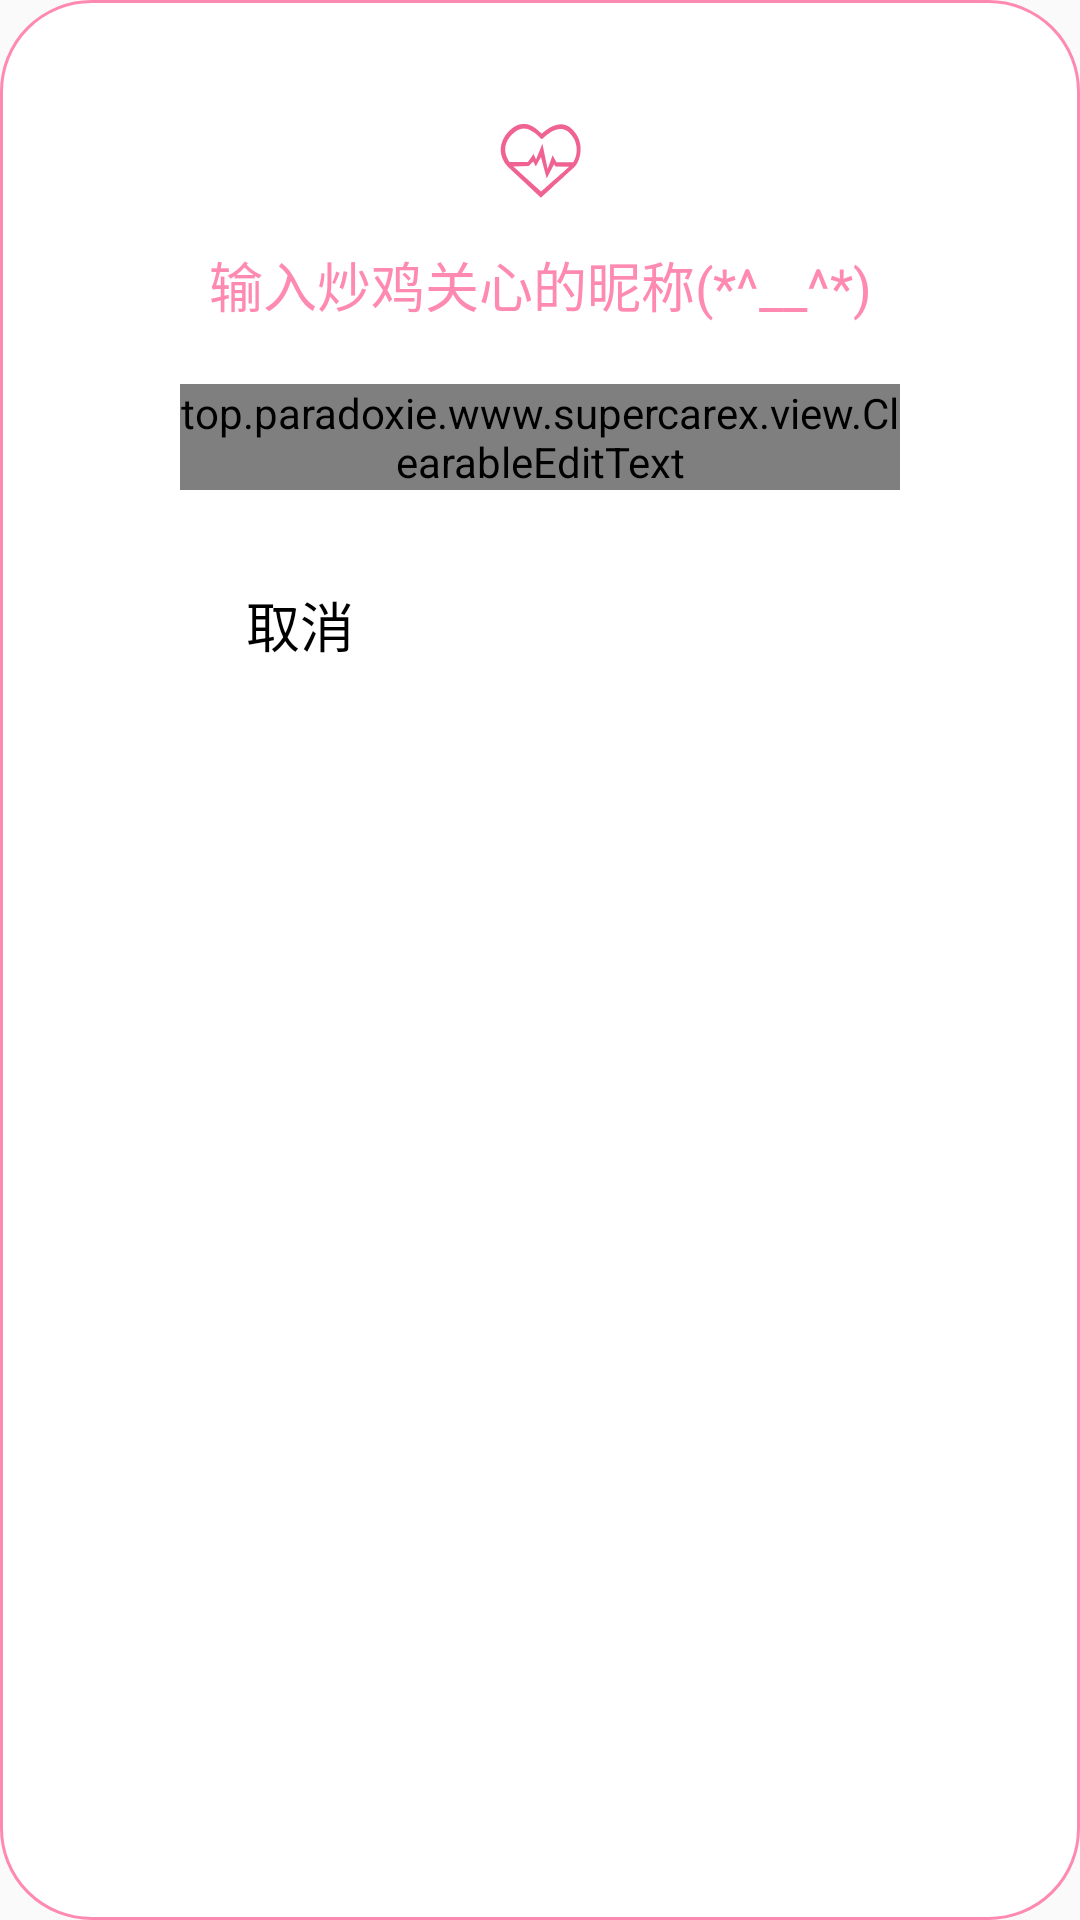

Icons on this 1080w x 1920h Android screen, each with its box as (x1, y1, x2, y2):
heart: (500, 124, 581, 198)
